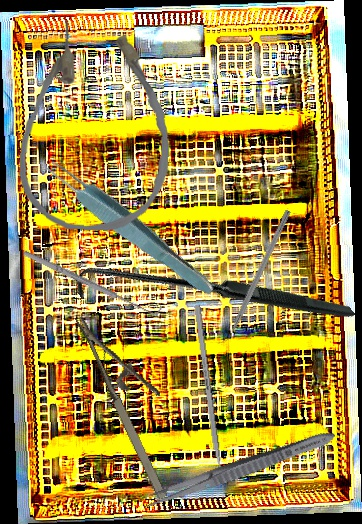Cannula: (16, 18, 176, 234)
Chopper: (214, 206, 292, 348)
Dressing Forceps: (139, 425, 339, 514)
Hook Surgical: (69, 155, 356, 443), (21, 243, 163, 321)
Needle Holder: (75, 300, 198, 502)
Pusher: (193, 304, 228, 503)
Tissue Forceps: (36, 150, 221, 302)
